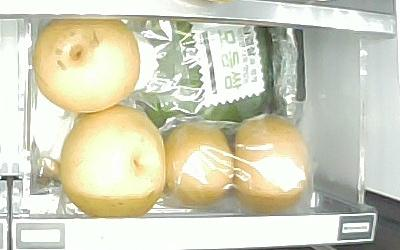pear: (57, 108, 166, 216), (33, 17, 141, 112)
pear_vinyl: (233, 115, 313, 214), (163, 122, 234, 210)
